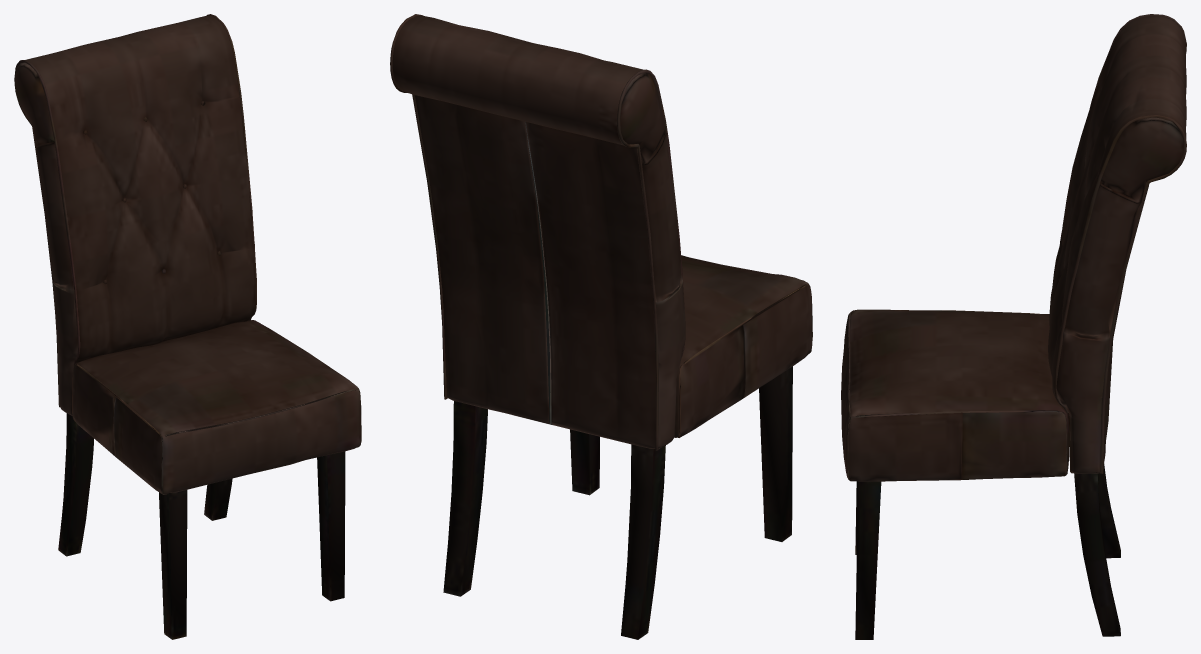
The model's file is chair-dining-02.lite.006d2586.glb.
The picture shows the model from 3 angles, left to right: view 1: azimuth 30°, elevation 25°; view 2: azimuth 150°, elevation 25°; view 3: azimuth 270°, elevation 25°; orthographic projection. The views are drawn at different scales.
Parts seen in each view (by area): view 1: model; view 2: model; view 3: model.
Boxes of the visible parts, x1,y1,x2,y2 form: model: [14, 14, 361, 639]; model: [390, 14, 812, 639]; model: [841, 14, 1186, 639].
Size of the model in its own units: 0.4336 by 0.9728 by 0.5764.
Materials: 1 (1 with a texture image).
